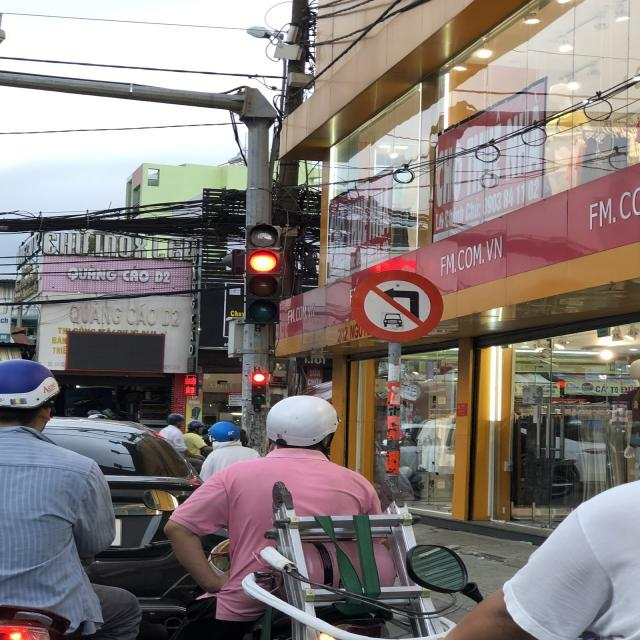Bien bao cam xe o to re trai: (350, 264, 456, 348)
